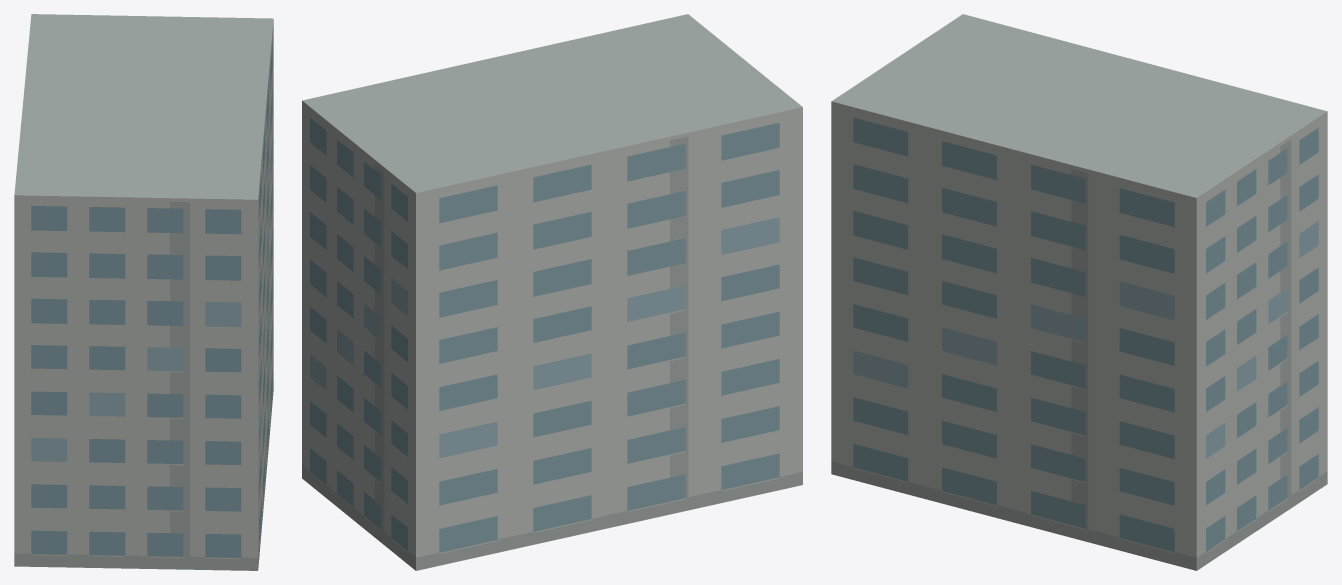
The model's file is survey-upis-32672161.glb.
3 views of the same model, side by side, from view 1: azimuth 30°, elevation 25°; view 2: azimuth 150°, elevation 25°; view 3: azimuth 270°, elevation 25° (orthographic).
Parts seen in each view (by area): view 1: survey-upis-32672161.tmp; view 2: survey-upis-32672161.tmp; view 3: survey-upis-32672161.tmp.
Boxes of the visible parts, box(x1,y1,x2,y2) form: survey-upis-32672161.tmp: box(14, 14, 273, 570); survey-upis-32672161.tmp: box(302, 14, 802, 570); survey-upis-32672161.tmp: box(831, 14, 1327, 570).
Size of the model in its own units: 25.85 by 24.4 by 29.44.
